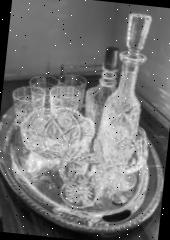glass: (1, 0, 163, 216)
